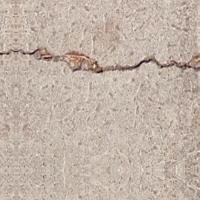crack: (0, 21, 199, 100)
